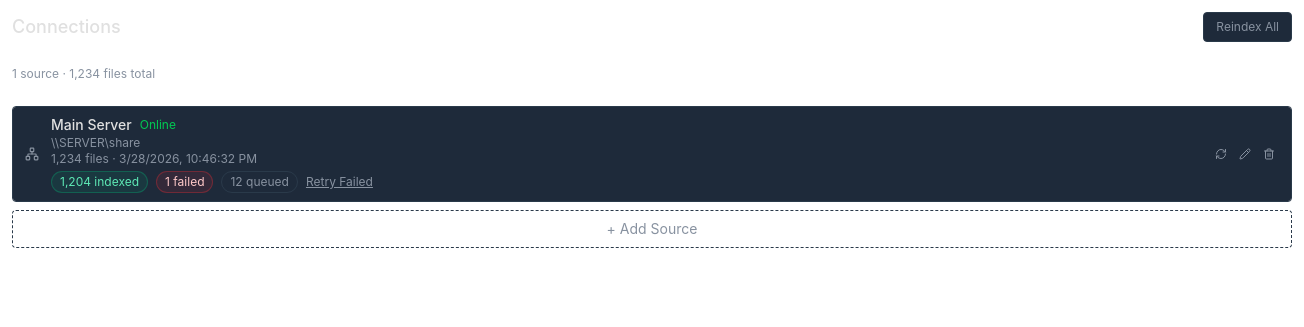
Test: Connections page › shows toast when delete returns error string
The image size is (1304, 327).
Click the button named "delete".
click(1269, 154)  # box [1259,144,1279,164]
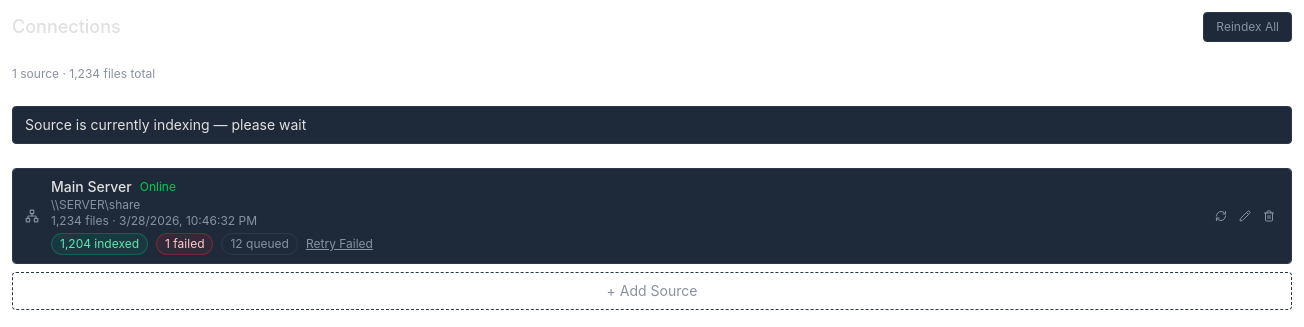
Now the text "Source is currently indexing — please wait" is shown, box [12,106,1292,144]
